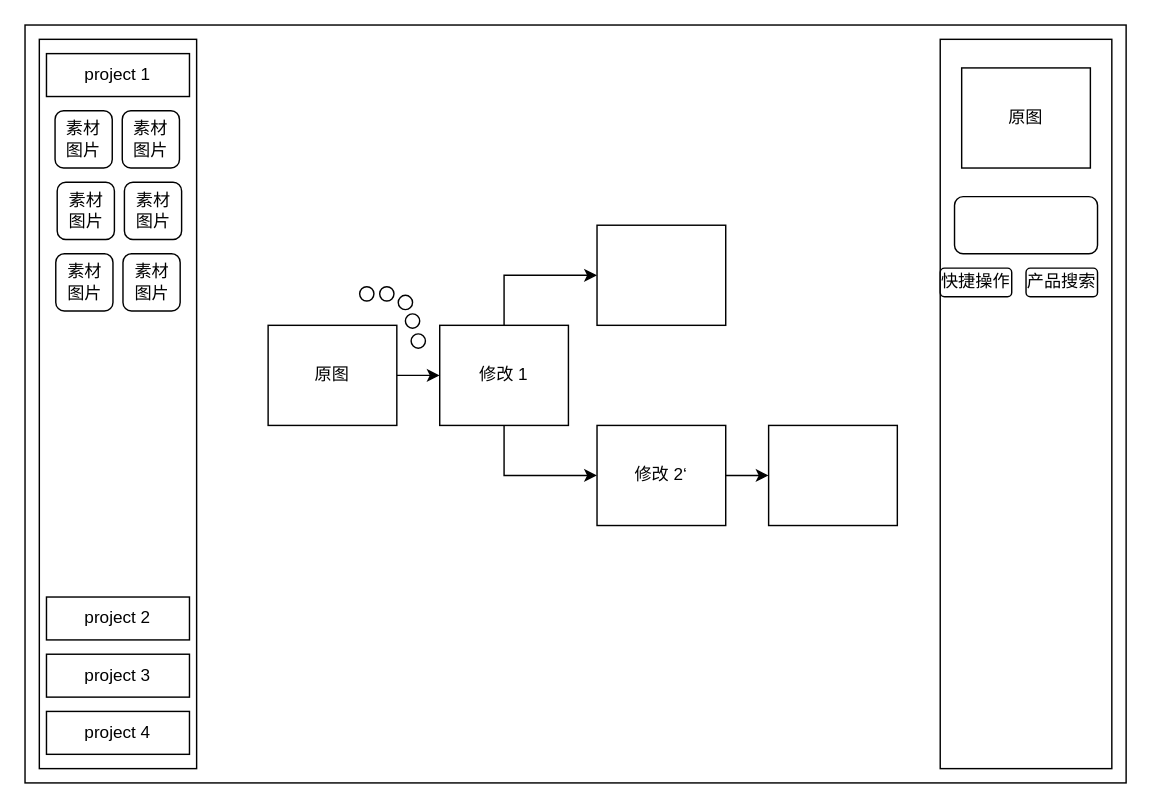
Some shapes in this 1151 by 808 pixel diagram are drawn without their labels. The shapes that lost their labels are listed below. From the top down, each one's box as (x1, y1, x2, y2) in pixels, then its label:
(953, 195, 1098, 254): 把图中的沙发删掉
(596, 224, 726, 325): 修改 2
(767, 424, 897, 526): 修改 3
